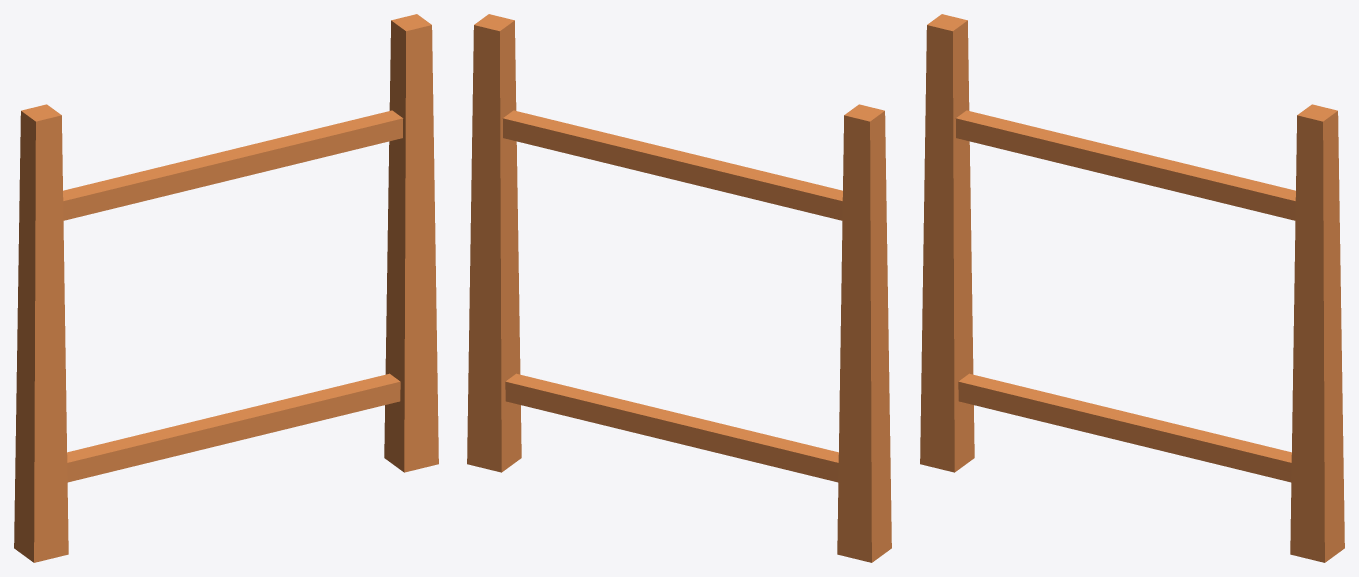
Rendered from fence.obj.
3 renders of one model, left to right at view 1: azimuth 30°, elevation 25°; view 2: azimuth 150°, elevation 25°; view 3: azimuth 330°, elevation 25°, orthographic.
Parts seen in each view (by area): view 1: fence; view 2: fence; view 3: fence.
Boxes of the visible parts, <box> form: fence: <box>14,14,438,562</box>; fence: <box>467,14,891,562</box>; fence: <box>920,14,1344,562</box>.
Bounding box in the file's own units: 0.5 × 0.5175 × 0.0428.
